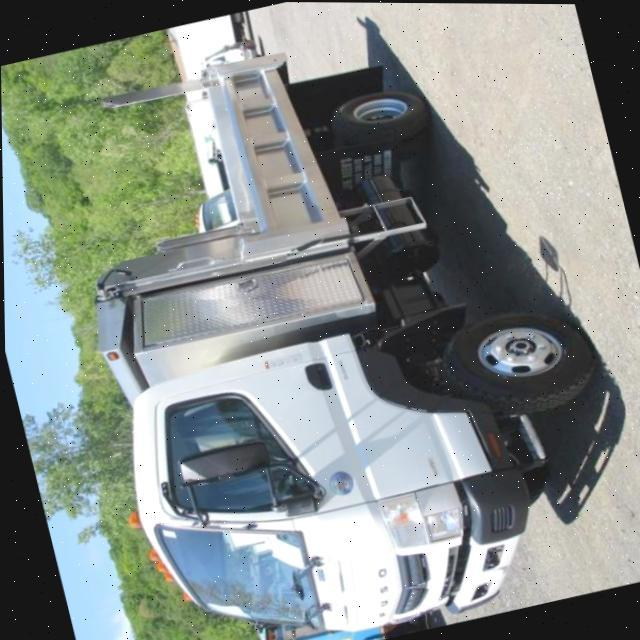truck: (40, 1, 630, 640), (148, 8, 264, 86)
